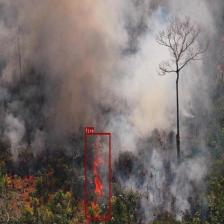fire: (85, 132, 110, 218)
